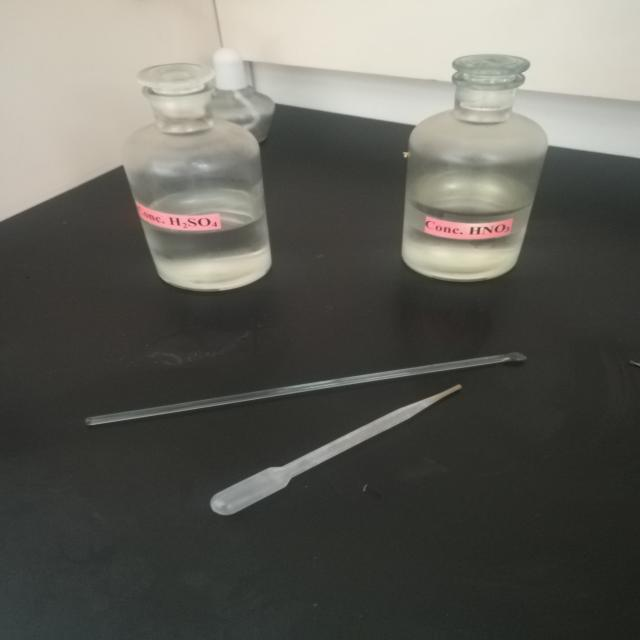Glass_Rod: (22, 356, 597, 428)
Pipette: (189, 382, 542, 532)
